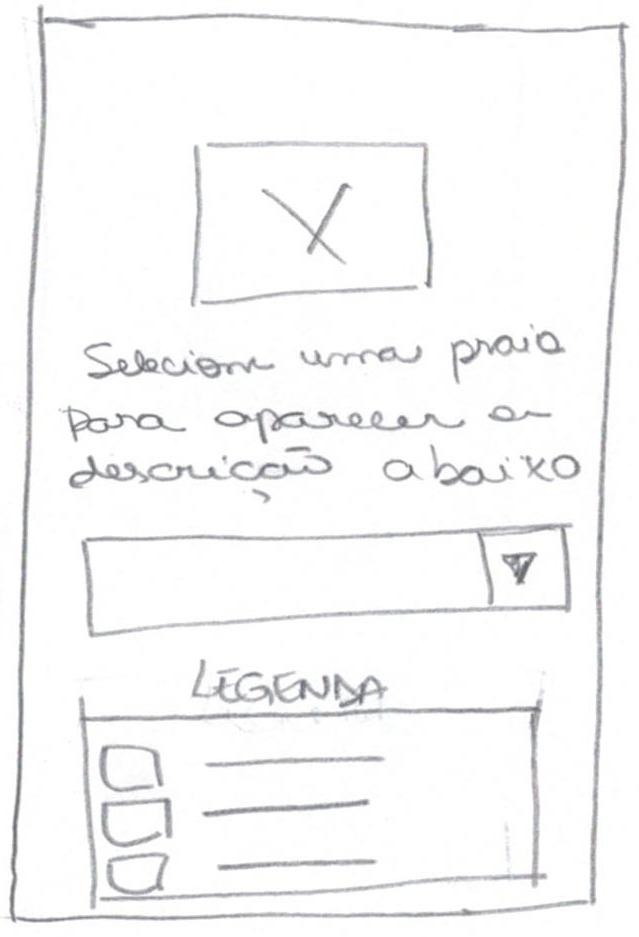CheckBox: (98, 738, 390, 796), (98, 795, 374, 851), (105, 850, 376, 896)
Image: (191, 138, 436, 308)
Label: (66, 322, 585, 499), (184, 661, 391, 707)
ListPicker: (77, 523, 575, 637)
Screen: (10, 11, 627, 923)
